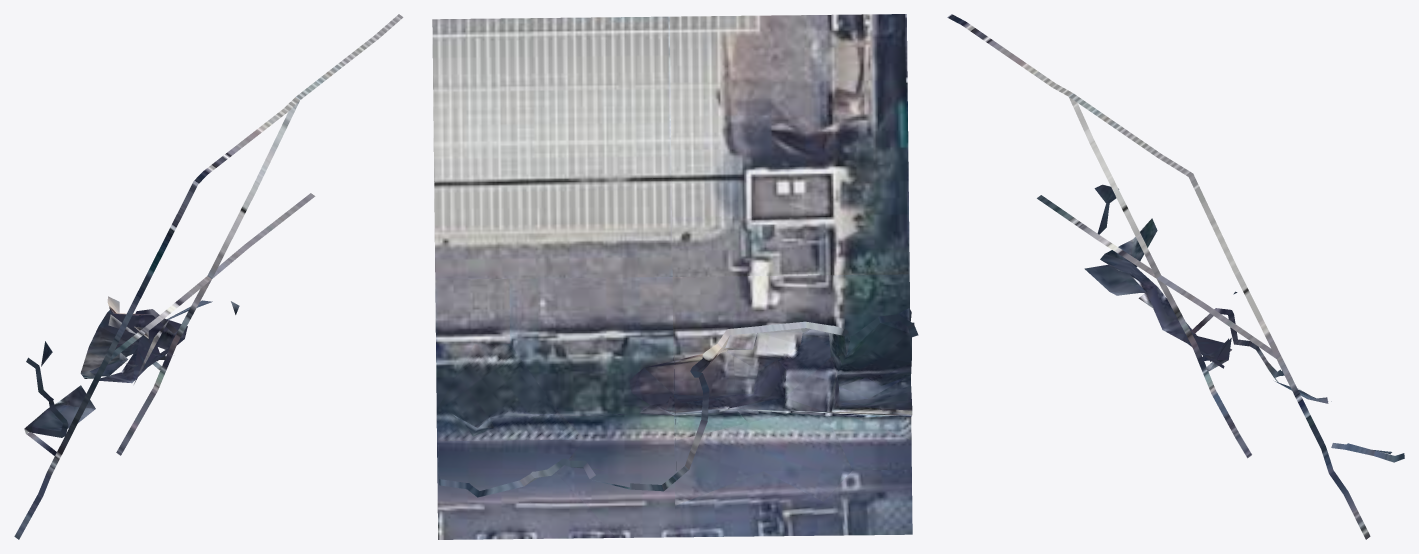
The picture shows the model from 3 angles, left to right: view 1: azimuth 30°, elevation 25°; view 2: azimuth 150°, elevation 25°; view 3: azimuth 270°, elevation 25°; orthographic projection. The views are drawn at different scales.
Size of the model in its own units: 37.95 by 34.88 by 35.06.
Materials: 1 (1 with a texture image).
